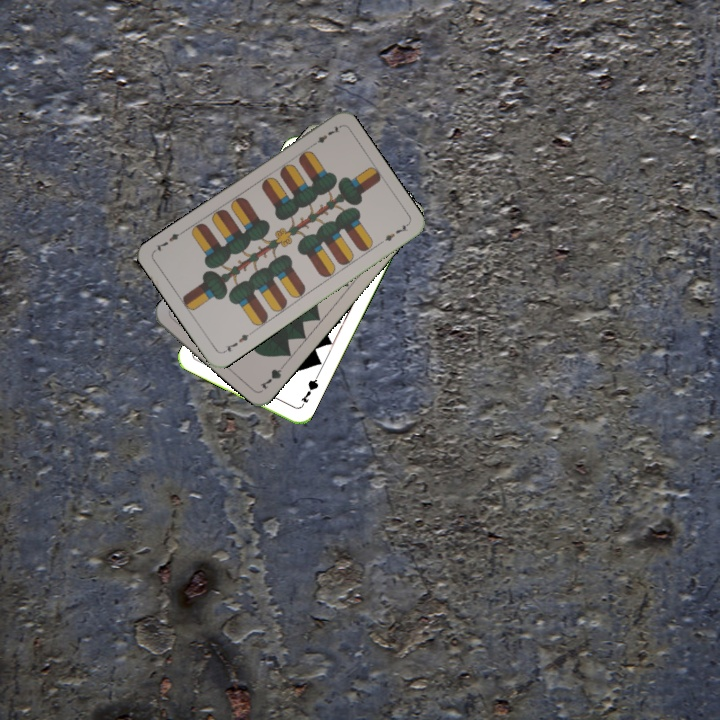E7: (219, 328, 254, 356), (307, 122, 342, 150)
G7: (256, 358, 289, 392), (296, 372, 321, 410)
